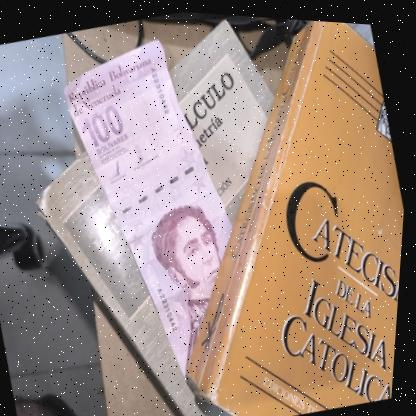one_hundred-front-vef: (41, 21, 281, 395)
